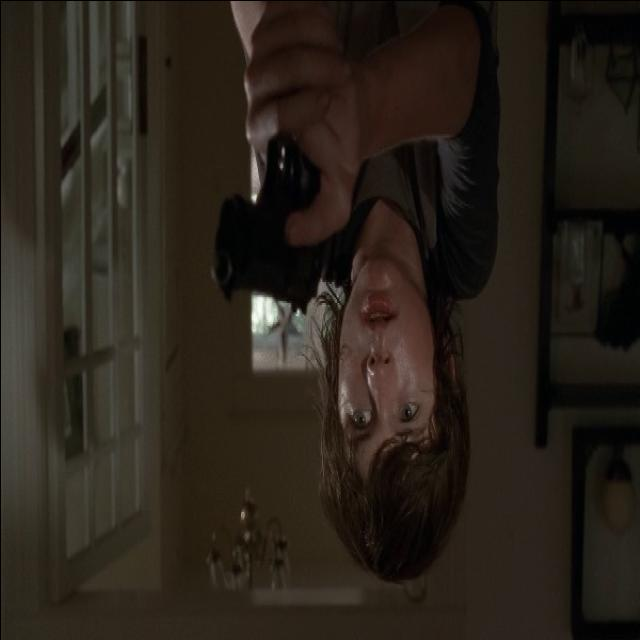weapons: (202, 37, 348, 356)
